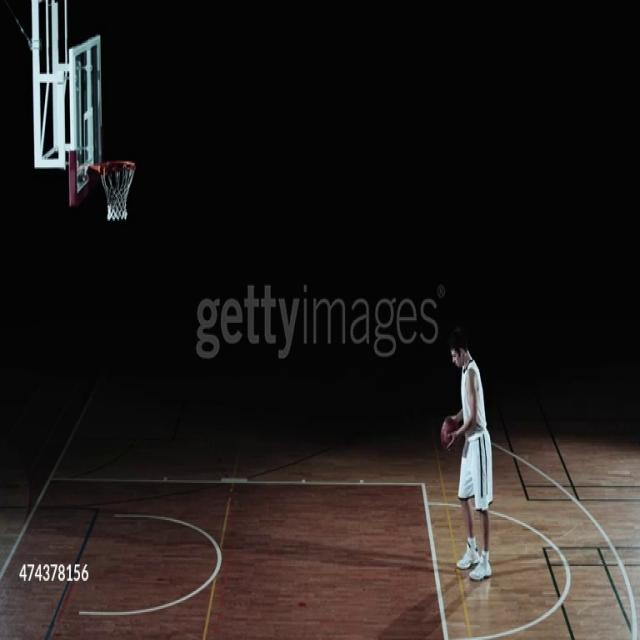ball: (440, 416, 458, 449)
